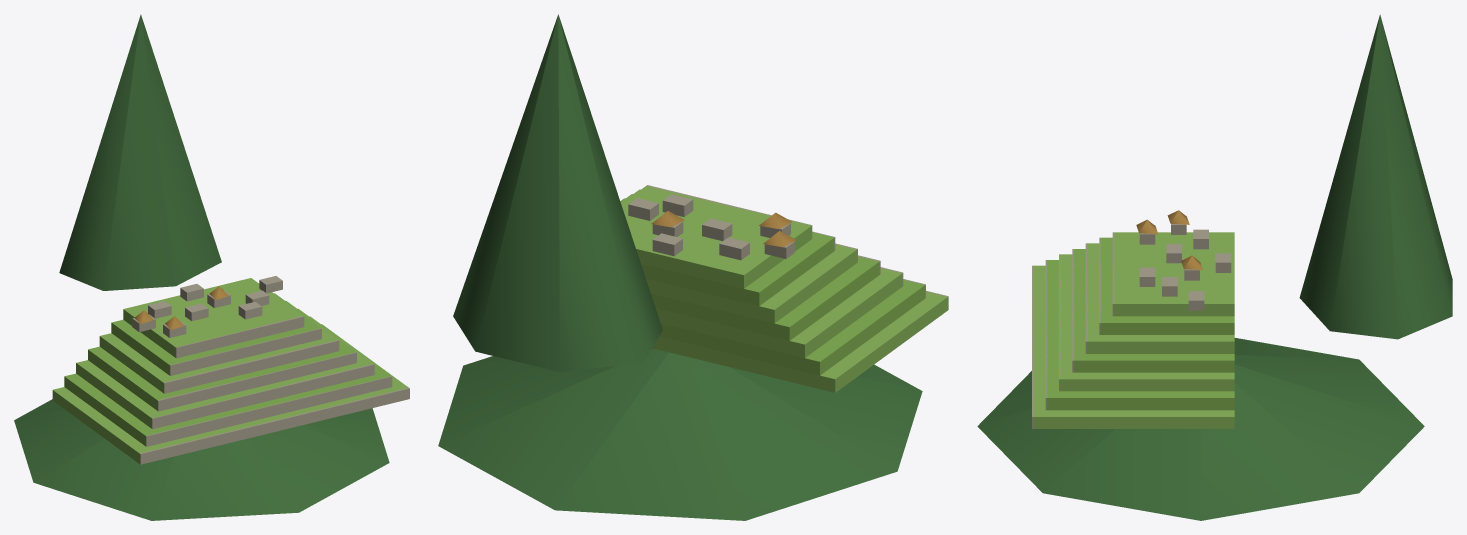
3 views of the same model, side by side, from view 1: azimuth 30°, elevation 25°; view 2: azimuth 150°, elevation 25°; view 3: azimuth 270°, elevation 25° (orthographic). The views are drawn at different scales.
Size of the model in its own units: 200 by 208 by 212.
